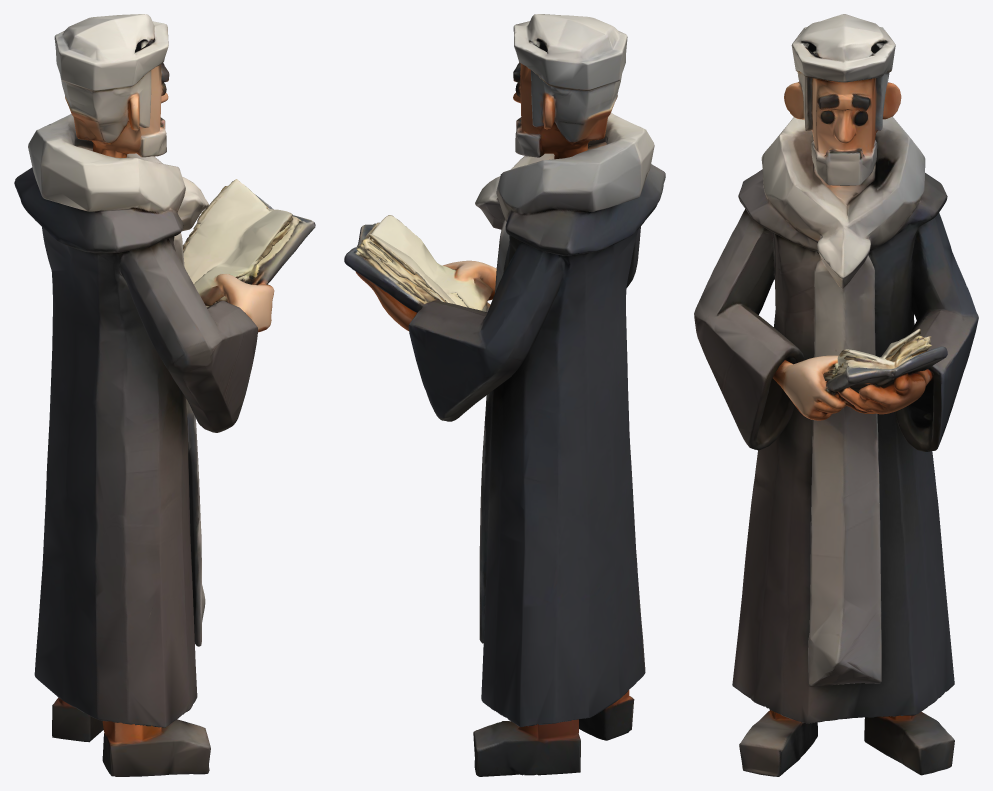
Rendered from npc-scholar.glb.
The picture shows the model from 3 angles, left to right: view 1: azimuth 30°, elevation 25°; view 2: azimuth 150°, elevation 25°; view 3: azimuth 270°, elevation 25°; orthographic projection.
Visible parts, largest first — view 1: tripo_node_ea50de66-bd17-4a64-a312-93ccd933e4ae; view 2: tripo_node_ea50de66-bd17-4a64-a312-93ccd933e4ae; view 3: tripo_node_ea50de66-bd17-4a64-a312-93ccd933e4ae.
Part boxes in pixels (x1=…): tripo_node_ea50de66-bd17-4a64-a312-93ccd933e4ae: x1=14, y1=14, x2=315, y2=776; tripo_node_ea50de66-bd17-4a64-a312-93ccd933e4ae: x1=344, y1=14, x2=665, y2=776; tripo_node_ea50de66-bd17-4a64-a312-93ccd933e4ae: x1=694, y1=14, x2=978, y2=776.
Bounding box in the file's own units: 0.7173 × 1.8 × 0.6417.
Materials: 1 (1 with a texture image).
